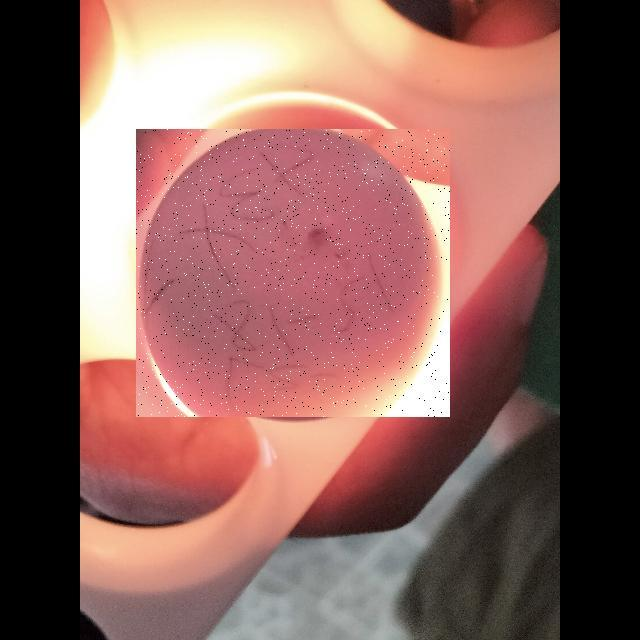Fertile: (136, 129, 450, 417)
